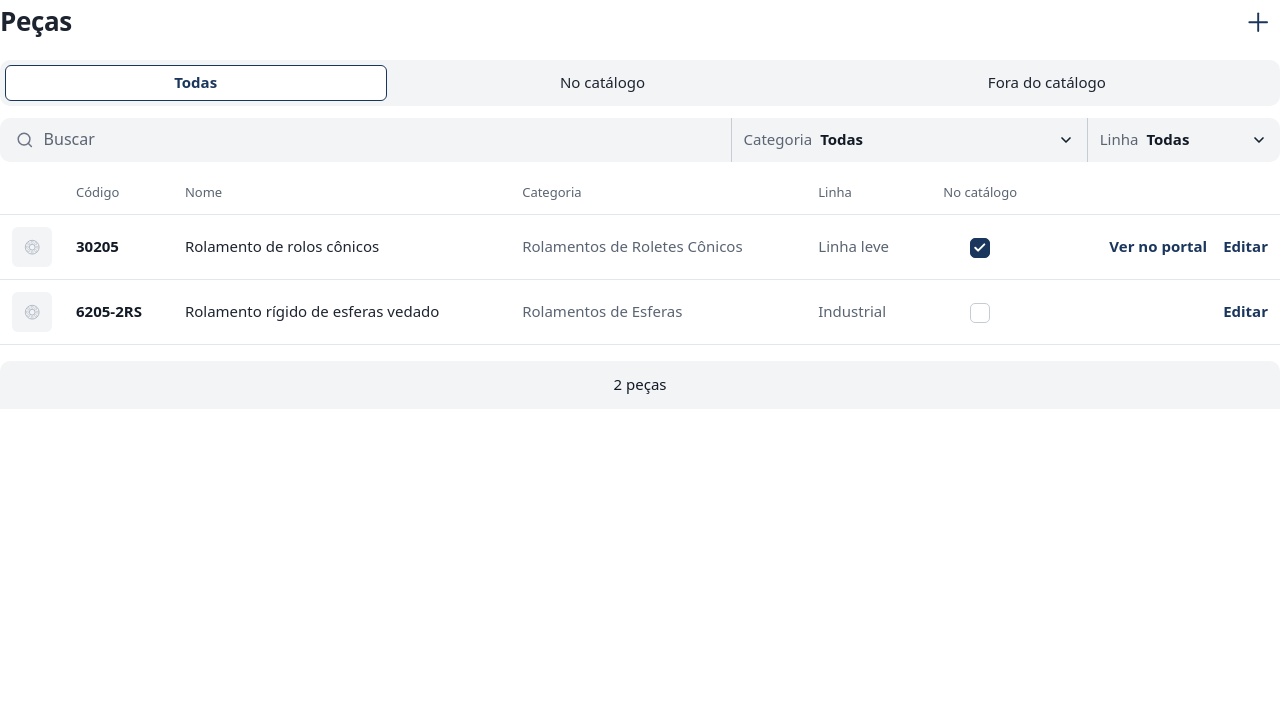
Test: Lista de peças › o "+" abre a janela de cadastro
The image size is (1280, 720).
Click the link named "Cadastrar peça" at coordinates (1258, 22), box [1243, 7, 1273, 37]
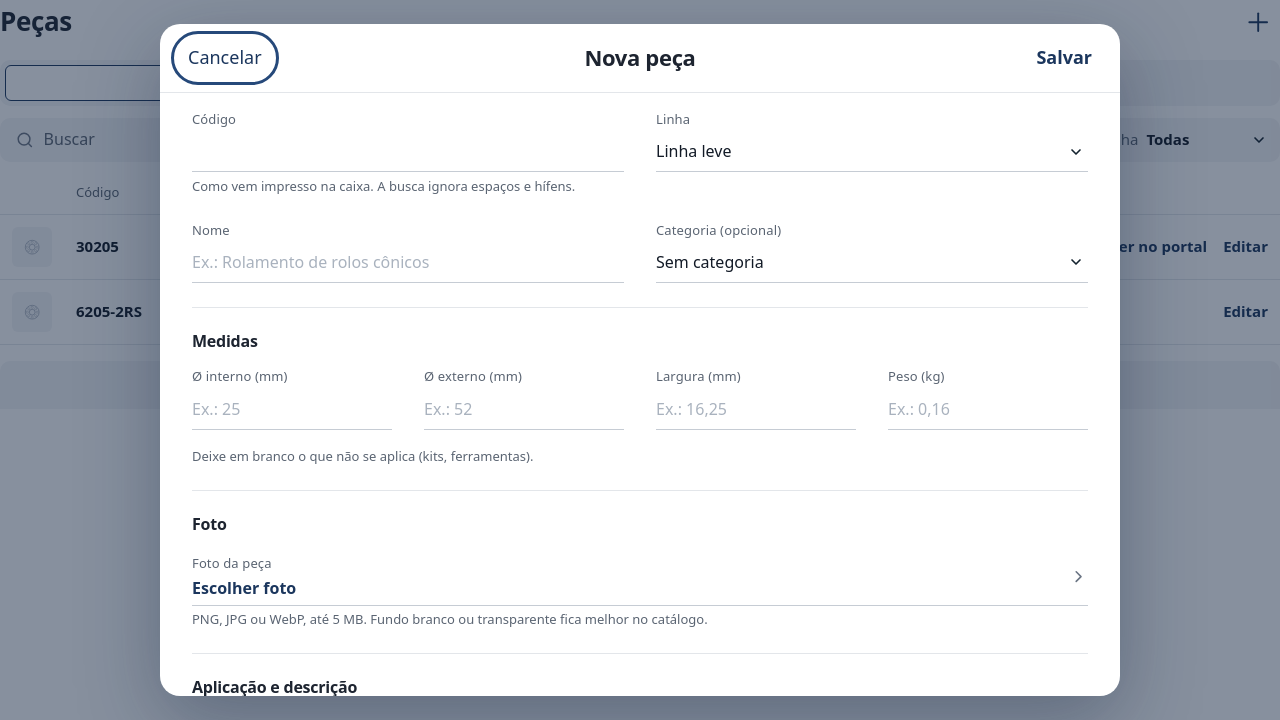
Check: the dialog "Nova peça" is shown
